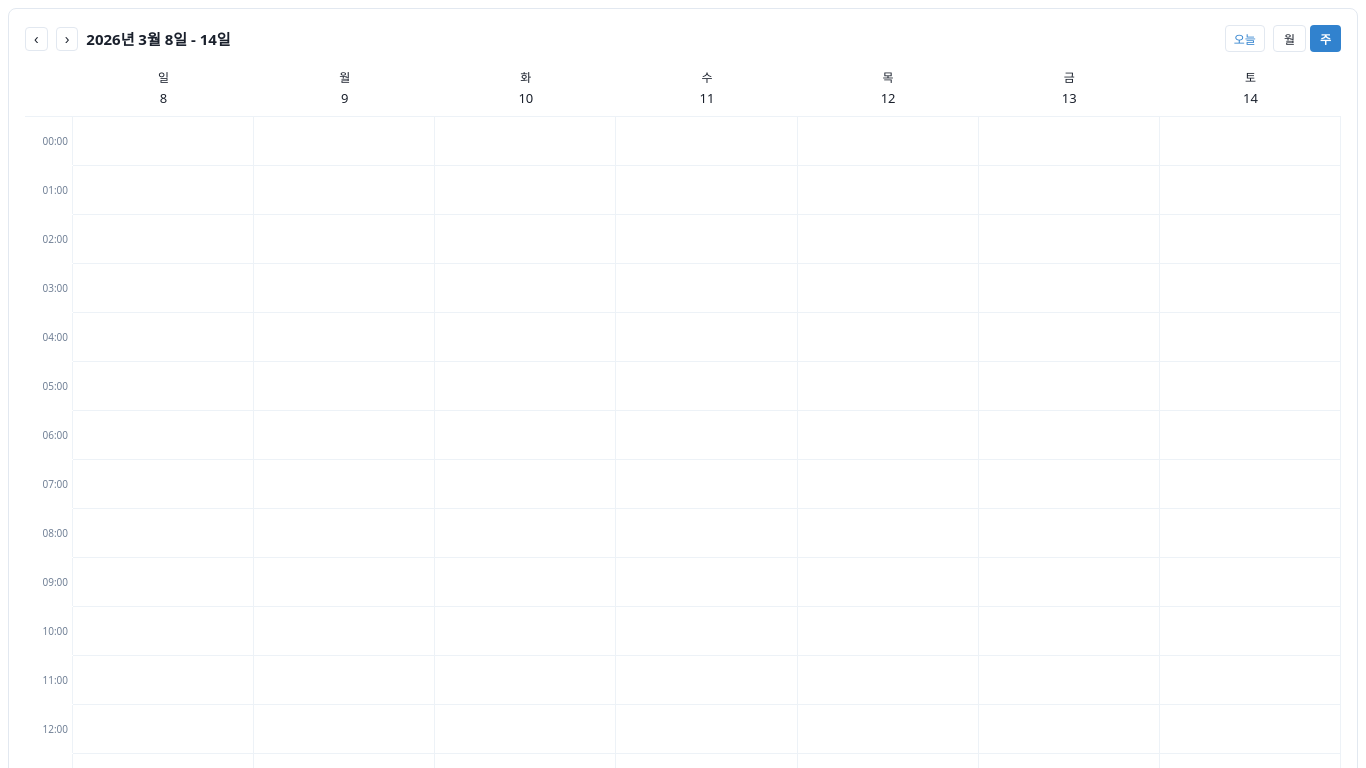
Calendar component › view switching › switches back to month view
Click the tab "월". click: (1289, 38)
box: left=1273, top=25, right=1306, bottom=52
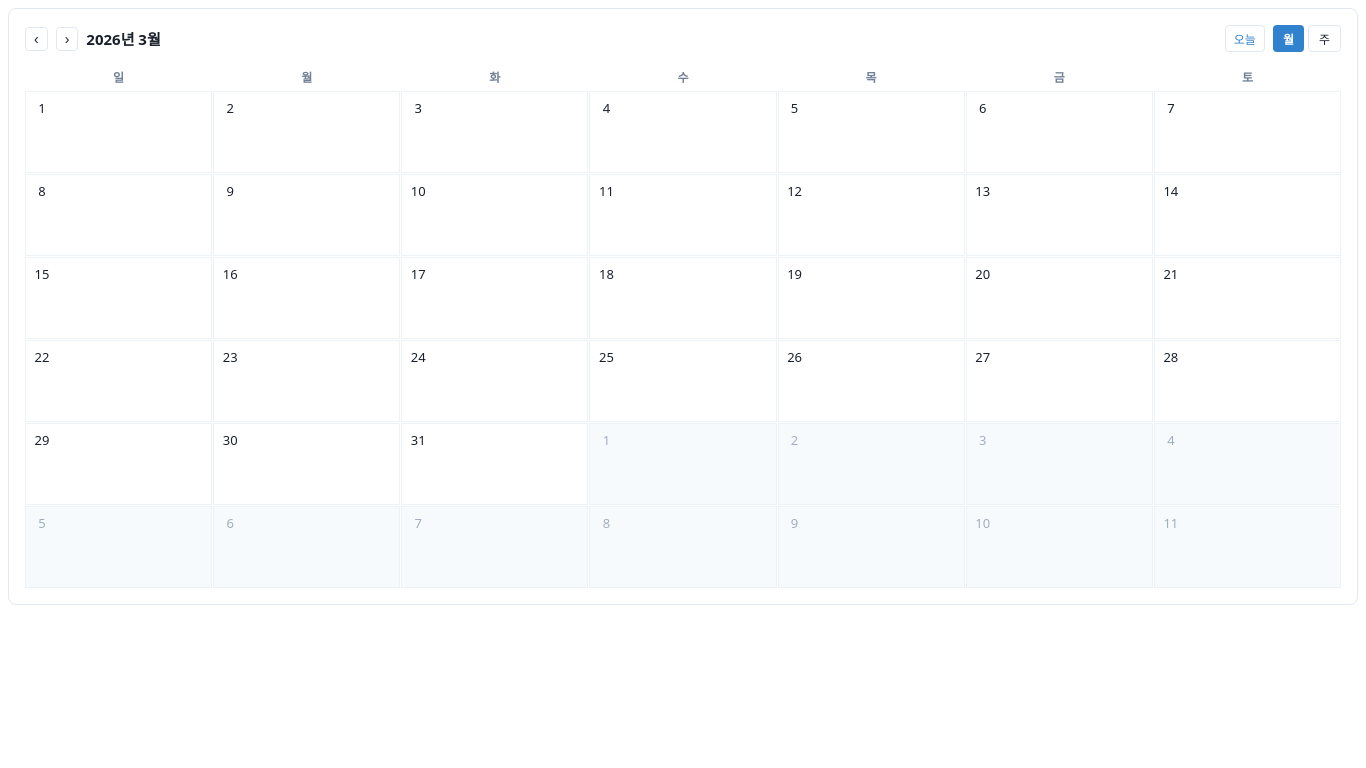
Now the table named "월간 달력" is shown
